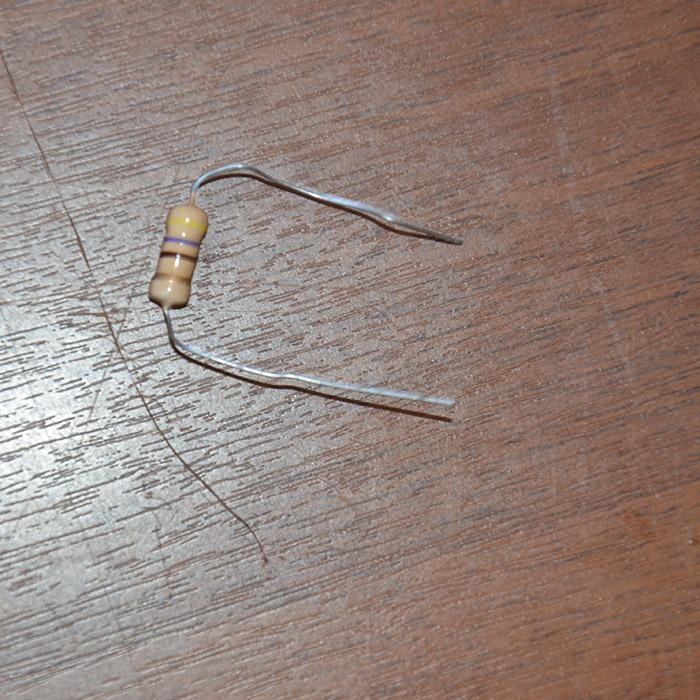resistor: (149, 200, 208, 310)
